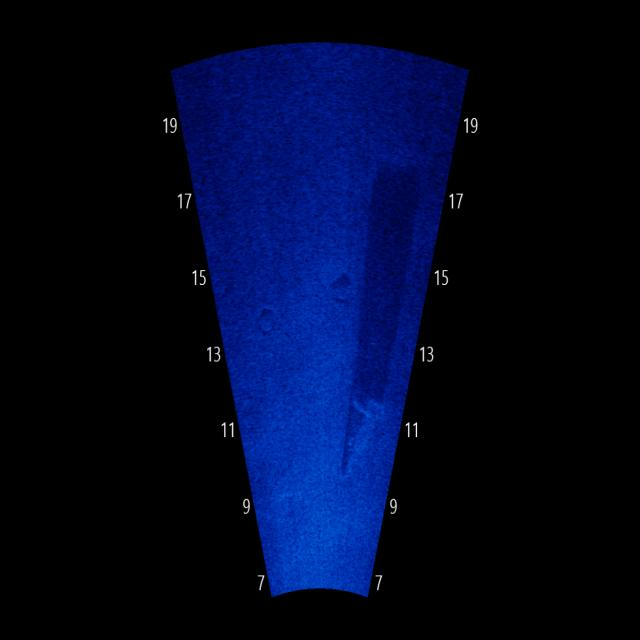circle: (254, 300, 282, 344), (327, 273, 356, 308)
triangle: (338, 376, 386, 484)
